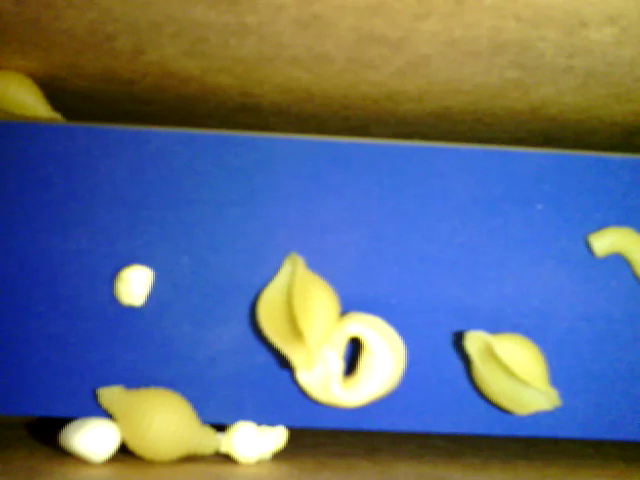elbow: (585, 225, 638, 281)
shell: (245, 246, 347, 375), (96, 385, 226, 459), (461, 328, 566, 419), (1, 66, 68, 124)
tortellini: (288, 296, 402, 412)
